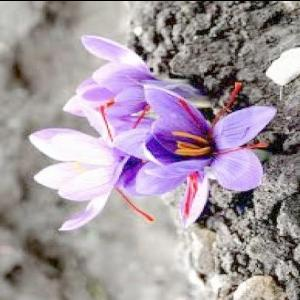Saffron: (125, 98, 276, 224), (31, 124, 122, 235), (74, 32, 161, 116)
